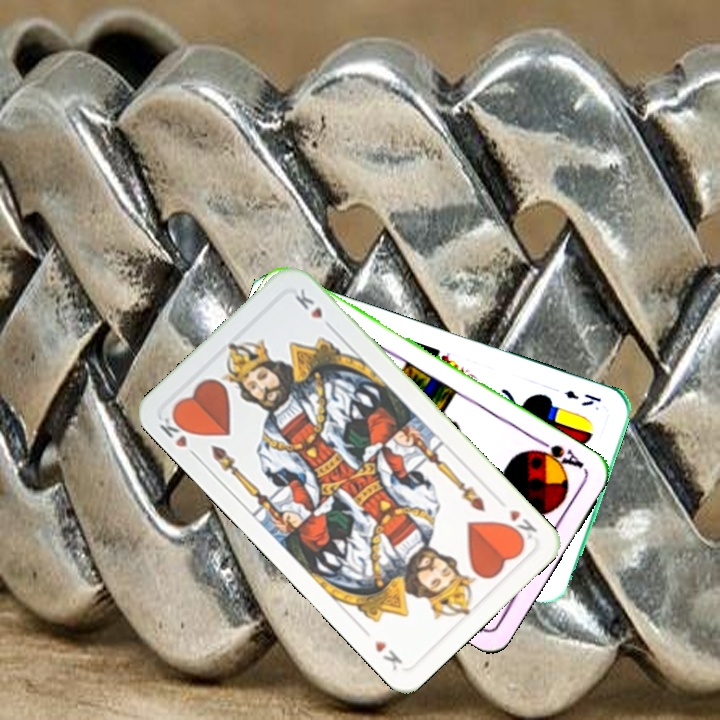EK: (560, 386, 604, 409)
HK: (155, 409, 202, 462), (501, 505, 540, 547)
SA: (528, 434, 587, 475)
